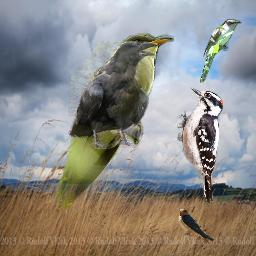Crow: (68, 41, 158, 149)
Cuckoo: (53, 33, 174, 210), (200, 19, 242, 83)
Swallow: (178, 208, 219, 255)
Woodpecker: (177, 87, 224, 206)
